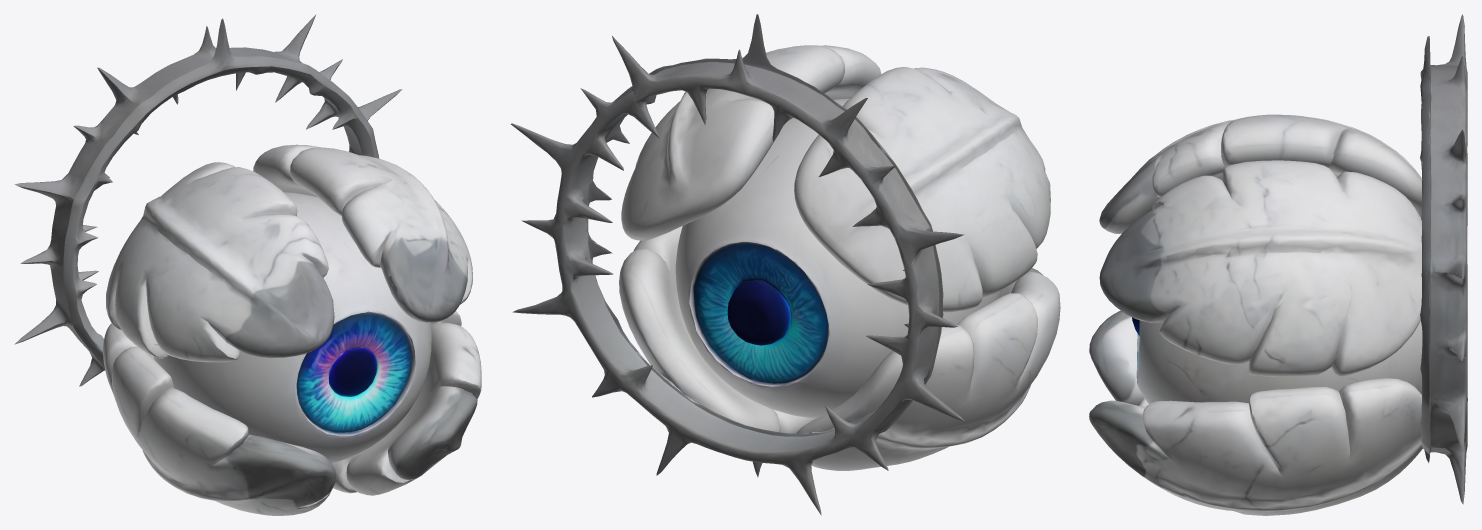
File: watcher.glb
3 views of the same model, side by side, from view 1: azimuth 30°, elevation 25°; view 2: azimuth 150°, elevation 25°; view 3: azimuth 270°, elevation 25° (orthographic). The views are drawn at different scales.
Parts seen in each view (by area): view 1: Mesh; view 2: Mesh; view 3: Mesh.
Part boxes in pixels (x1,y1,x2,y2): Mesh: (14,14,481,515); Mesh: (511,14,1060,515); Mesh: (1089,14,1467,515).
Bounding box in the file's own units: 1.83 × 1.88 × 1.43.
Materials: 1 (1 with a texture image).
